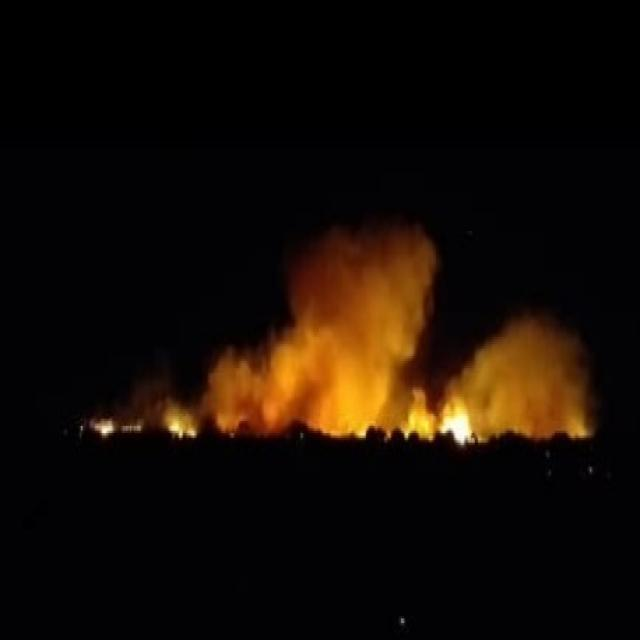Fire: (388, 368, 529, 463)
Smoke: (56, 186, 638, 468)
